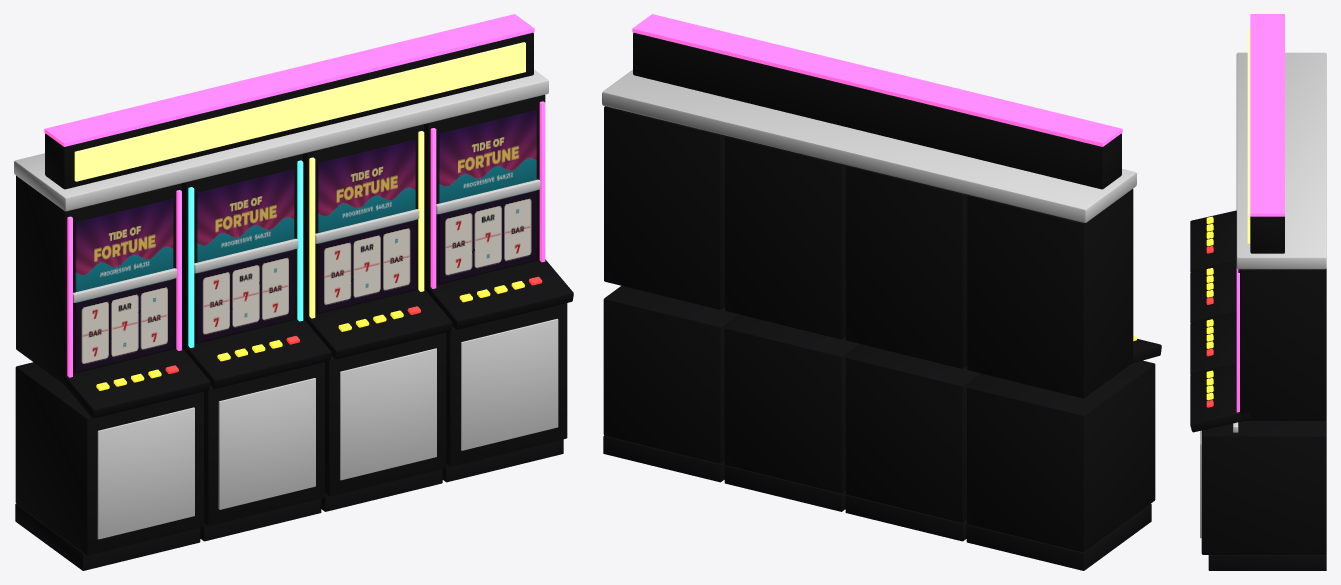
The model's file is tideline_slots.glb.
The picture shows the model from 3 angles, left to right: view 1: azimuth 30°, elevation 25°; view 2: azimuth 150°, elevation 25°; view 3: azimuth 270°, elevation 25°; orthographic projection. The views are drawn at different scales.
Parts seen in each view (by area): view 1: tideline_slots; view 2: tideline_slots; view 3: tideline_slots.
Part boxes in pixels (x1,y1,x2,y2): tideline_slots: [14, 14, 573, 570]; tideline_slots: [602, 14, 1161, 570]; tideline_slots: [1190, 14, 1326, 570].
Size of the model in its own units: 2.8 by 2.26 by 0.7867.
Materials: 8 (1 with a texture image).
